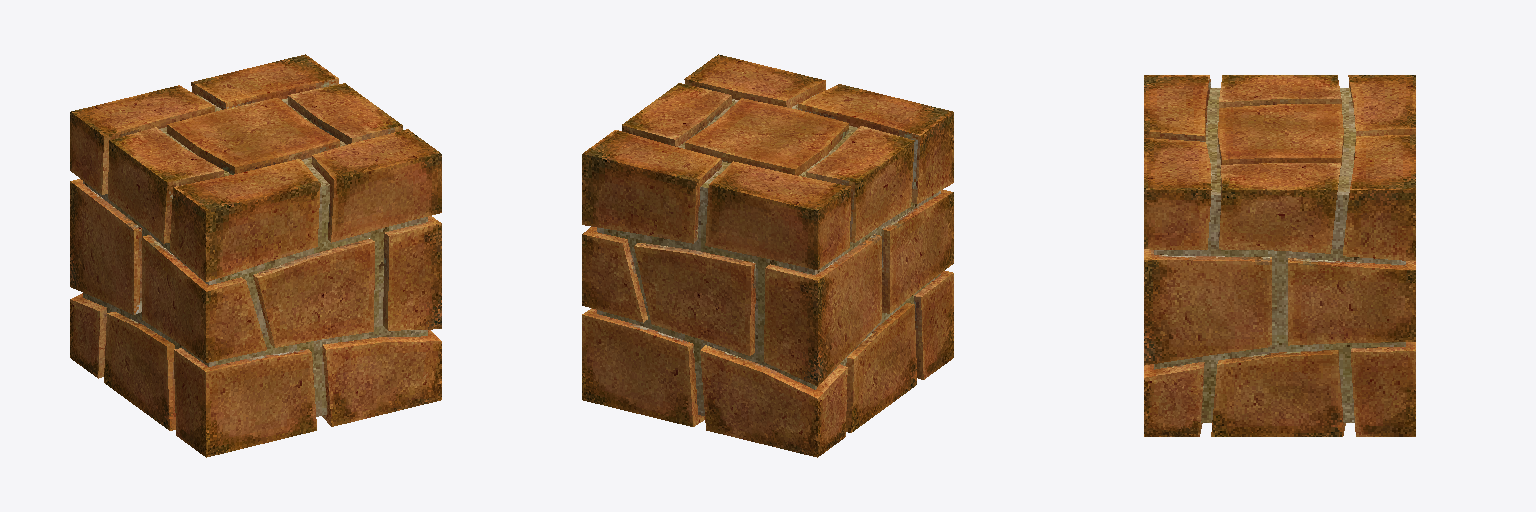
The picture shows the model from 3 angles: view 1: azimuth 30°, elevation 25°; view 2: azimuth 150°, elevation 25°; view 3: azimuth 270°, elevation 25°; orthographic projection.
Visible parts, largest first — view 1: breakables_ground; view 2: breakables_ground; view 3: breakables_ground.
Boxes of the visible parts, x1=… form: breakables_ground: x1=70, y1=54, x2=441, y2=457; breakables_ground: x1=582, y1=54, x2=953, y2=457; breakables_ground: x1=1144, y1=75, x2=1415, y2=436.
Size of the model in its own units: 150 by 150 by 150.
Materials: 1 (1 with a texture image).